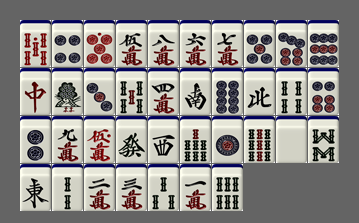0m: (84, 116, 115, 163)
0p: (84, 20, 115, 67)
0s: (20, 20, 51, 67)
1m: (180, 164, 211, 211)
1p: (212, 116, 243, 163)
1s: (52, 68, 83, 115)
1z: (20, 164, 51, 211)
2m: (84, 164, 115, 211)
2p: (20, 116, 51, 163)
2s: (52, 164, 83, 211)
2z: (180, 68, 211, 115)
3m: (116, 164, 147, 211)
3p: (84, 68, 115, 115)
3s: (148, 164, 179, 211)
3z: (148, 116, 179, 163)
4m: (148, 68, 179, 115)
4p: (52, 20, 83, 67)
4s: (276, 68, 307, 115)
4z: (244, 68, 275, 115)
5m: (116, 20, 147, 67)
5p: (244, 20, 275, 67)
5s: (116, 68, 147, 115)
5z: (276, 116, 307, 163)
6m: (180, 20, 211, 67)
6p: (308, 68, 339, 115)
6s: (212, 164, 243, 211)
6z: (116, 116, 147, 163)
7m: (212, 20, 243, 67)
7p: (276, 20, 307, 67)
7s: (180, 116, 211, 163)
7z: (20, 68, 51, 115)
8m: (148, 20, 179, 67)
8p: (212, 68, 243, 115)
8s: (308, 116, 339, 163)
9m: (52, 116, 83, 163)
9p: (308, 20, 339, 67)
9s: (244, 116, 275, 163)
